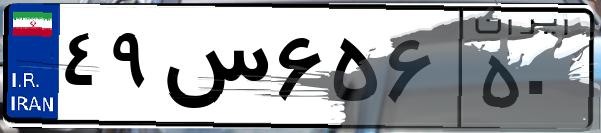0: (525, 38, 570, 115)
4: (57, 26, 110, 100)
5: (330, 28, 385, 110), (475, 38, 525, 113)
6: (270, 28, 330, 110), (385, 28, 445, 110)
9: (110, 28, 158, 98)
س: (158, 20, 270, 120)
